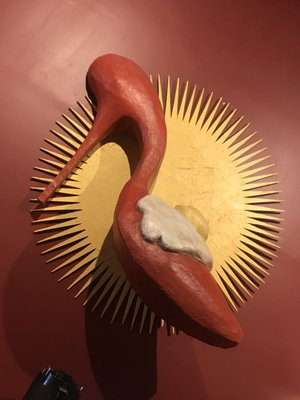burger: (154, 73, 298, 348)
